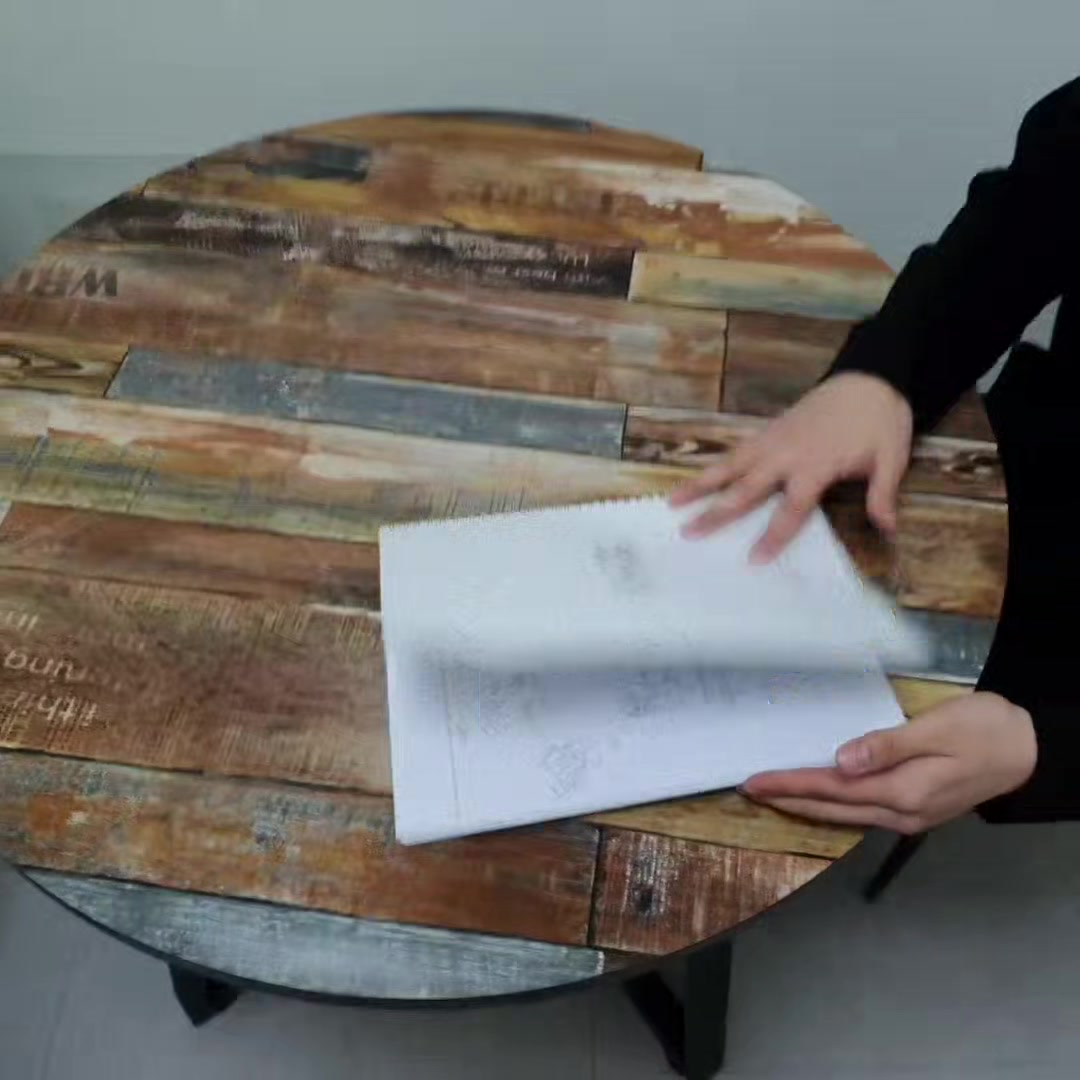book: (369, 451, 918, 840)
